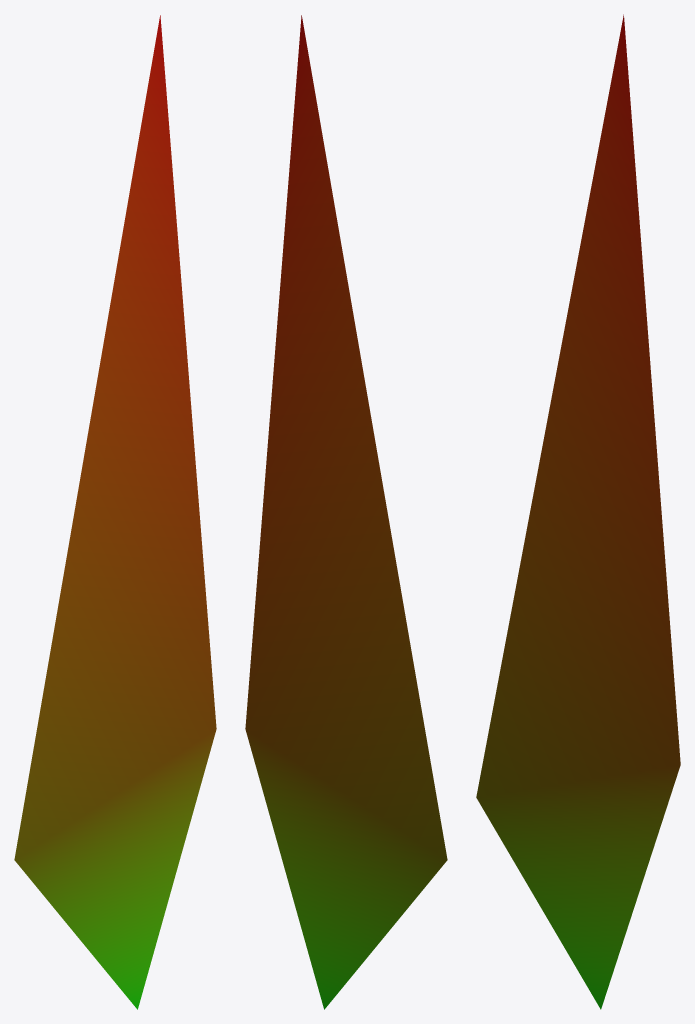
The model's file is Tundra Grass_LOD7_Var35_wk2oaeyqx.fbx.
The picture shows the model from 3 angles, left to right: view 1: azimuth 30°, elevation 25°; view 2: azimuth 150°, elevation 25°; view 3: azimuth 330°, elevation 25°; orthographic projection.
Parts seen in each view (by area): view 1: _lxvp_Var35_LOD7; view 2: _lxvp_Var35_LOD7; view 3: _lxvp_Var35_LOD7.
Part boxes in pixels (<box>): _lxvp_Var35_LOD7: <box>14,15,216,1009</box>; _lxvp_Var35_LOD7: <box>245,15,447,1009</box>; _lxvp_Var35_LOD7: <box>476,14,680,1009</box>.
Size of the model in its own units: 11.24 by 52.6 by 2.3e-06.
